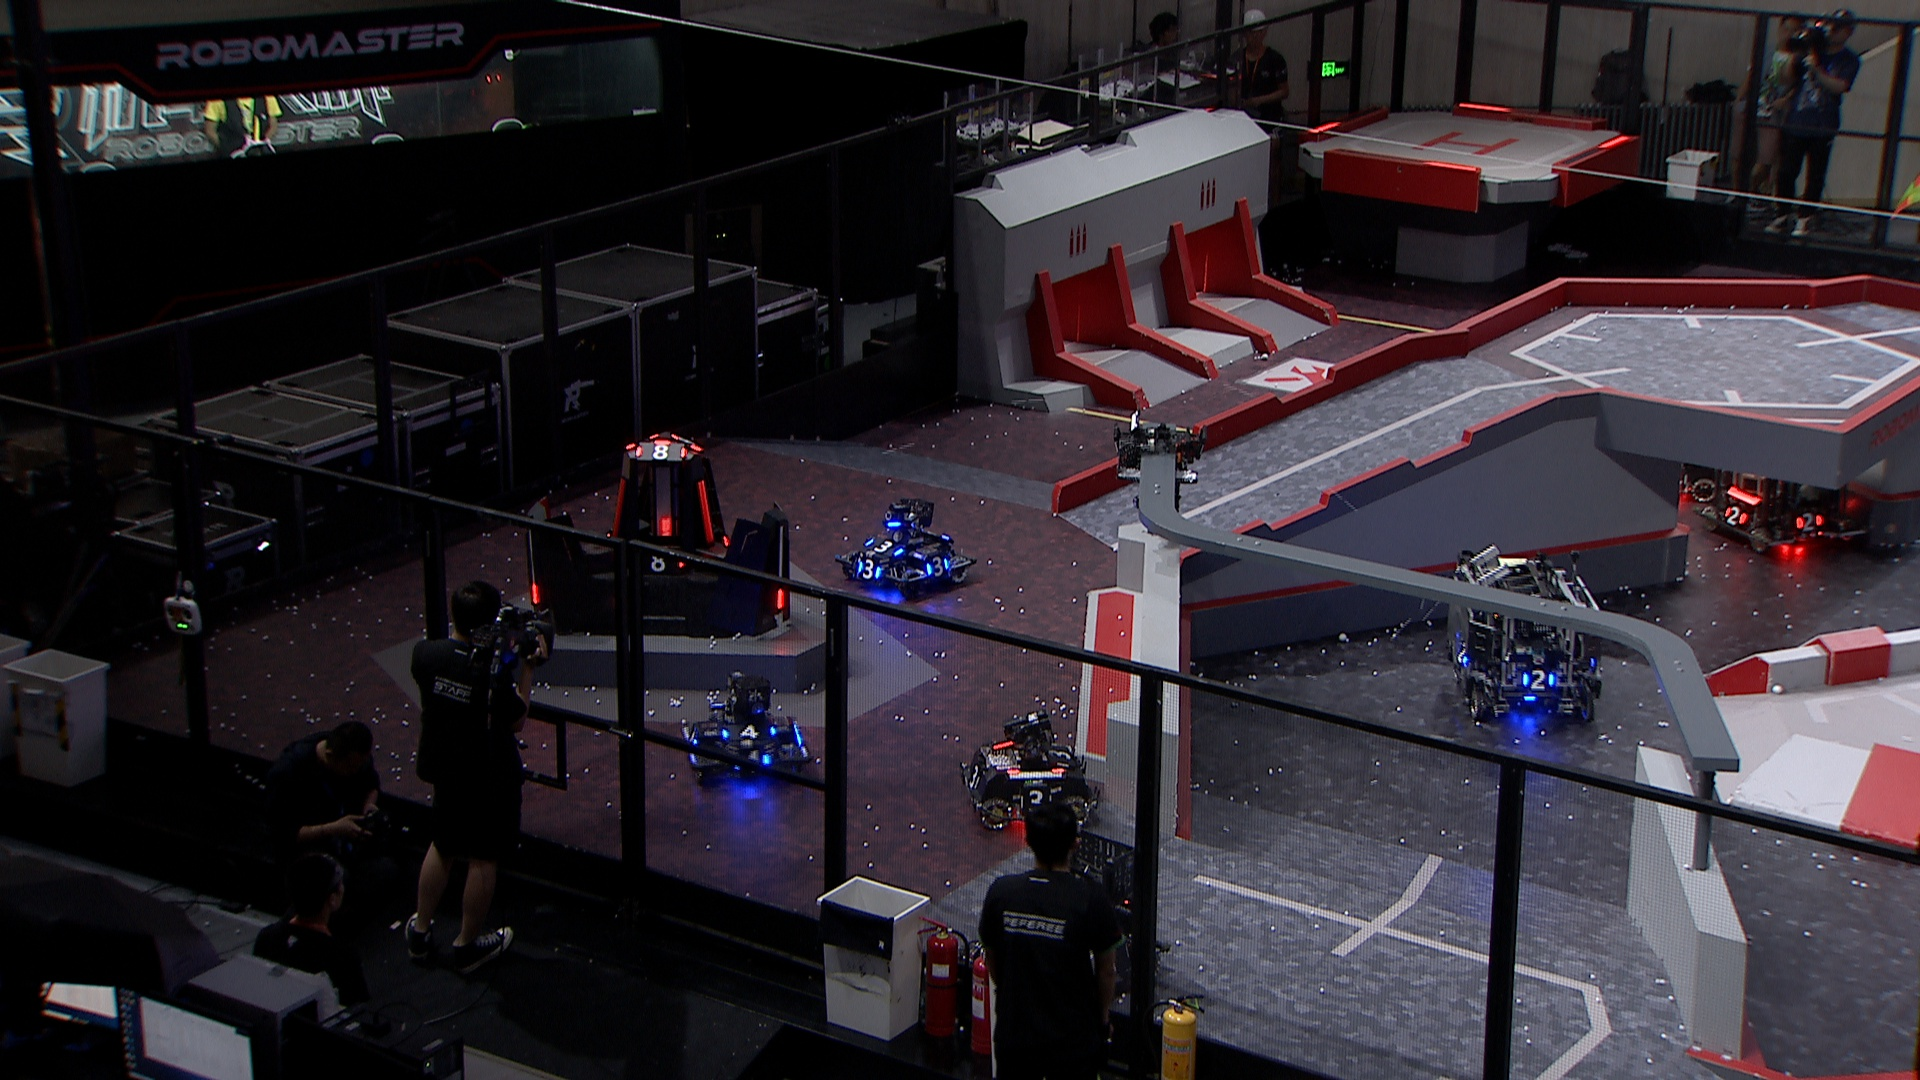armor: (695, 477, 716, 547), (721, 721, 775, 740), (636, 551, 684, 571), (611, 477, 626, 538), (1021, 789, 1054, 814), (636, 443, 683, 460), (1522, 670, 1557, 692), (731, 752, 770, 769), (865, 538, 898, 556), (1046, 742, 1068, 767), (1792, 512, 1820, 531), (855, 559, 880, 580), (926, 556, 949, 578), (967, 760, 982, 789), (1452, 642, 1468, 669), (1724, 504, 1742, 526), (774, 585, 789, 613), (684, 728, 700, 749), (657, 516, 671, 538), (527, 582, 539, 604)
base: (517, 431, 793, 638)
car: (1439, 549, 1605, 731), (1005, 835, 1174, 1007), (1695, 433, 1874, 564), (961, 713, 1105, 832), (679, 669, 816, 781), (836, 493, 978, 597), (1651, 419, 1738, 513)
watcher: (1110, 406, 1209, 518)
